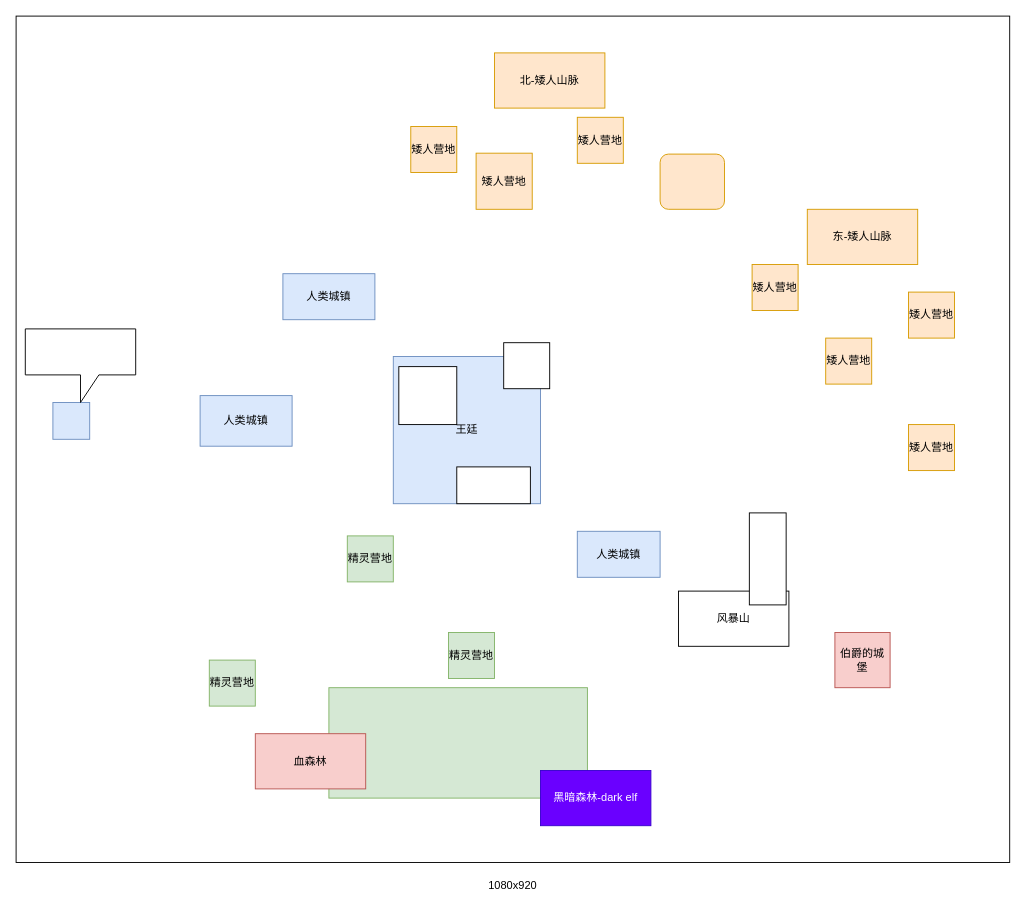
The diagram is 1026 pixels wide and 915 high, and some of its shapes have lost their labels. The shapes that lost their labels are listed below. From the top down, each one's box as (x1, y1, x2, y2) in pixels, then its label:
(659, 153, 724, 209): 铁王座
(24, 328, 136, 402): 初始村
(503, 342, 550, 389): 魔法学院
(398, 366, 457, 425): 教廷
(52, 402, 90, 439): 边村
(456, 466, 530, 504): 刺客公会
(748, 512, 786, 605): 高塔-黑龙
(328, 687, 587, 798): 精灵森林
